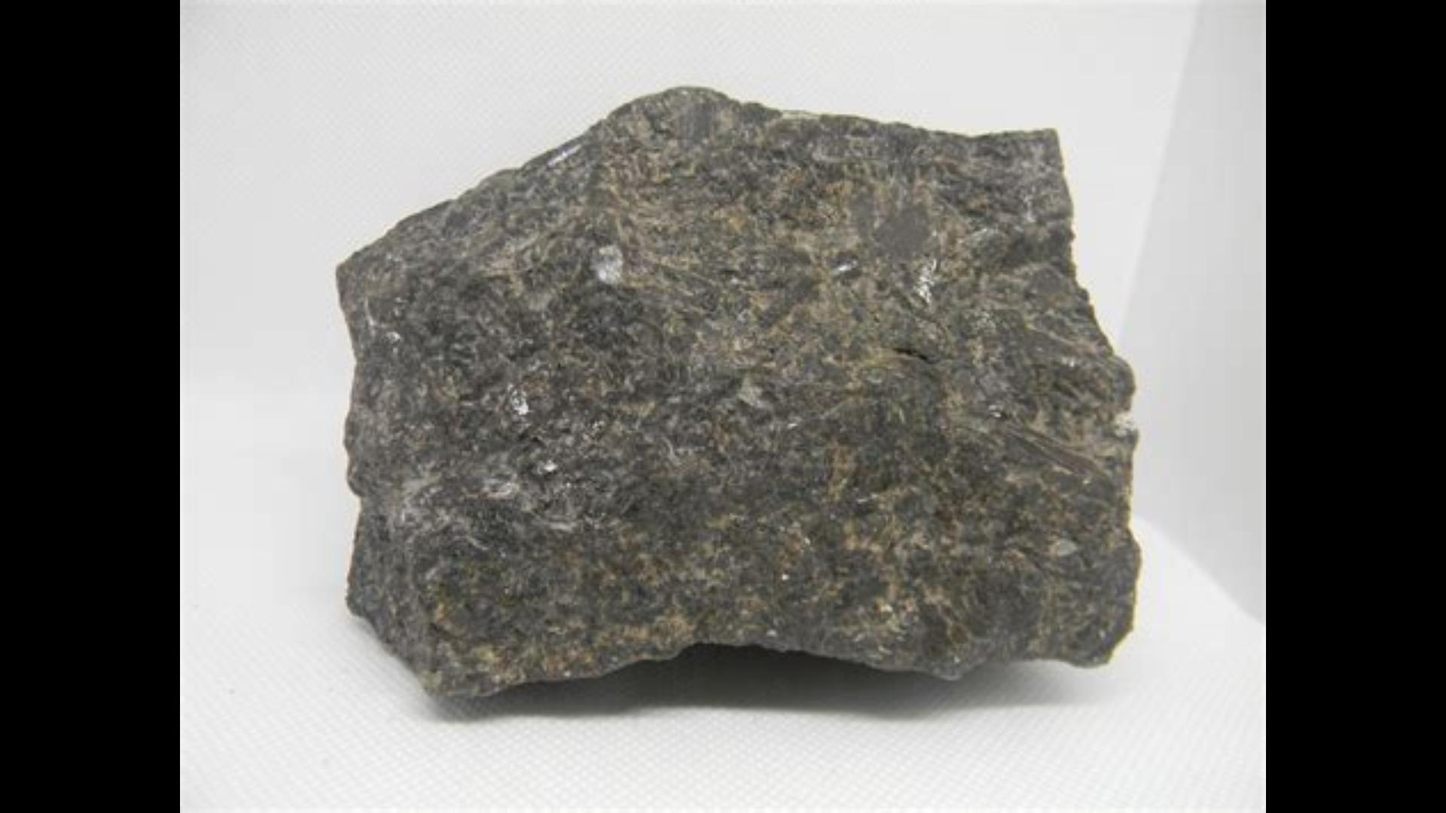rock: (340, 89, 1131, 692)
